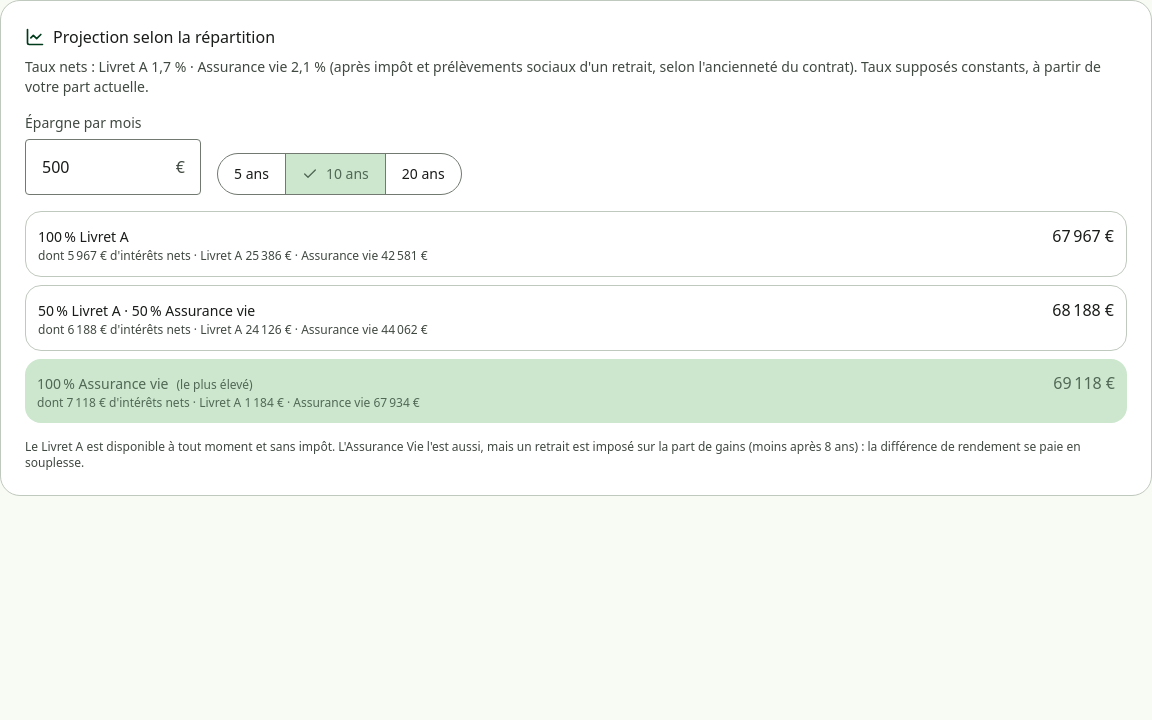
Test: SplitProjectionCard › trois répartitions ; la durée se choisit par un bouton segmenté
This screenshot has width=1152, height=720.
Check: the list named "Trois répartitions sur 10 ans" shows "100 %", box 38,227 -> 129,246
Check: the text "(le plus élevé)" is shown, box 176,376 -> 253,393
Click the button "20 ans" at (423, 174), box 385,154 -> 461,194
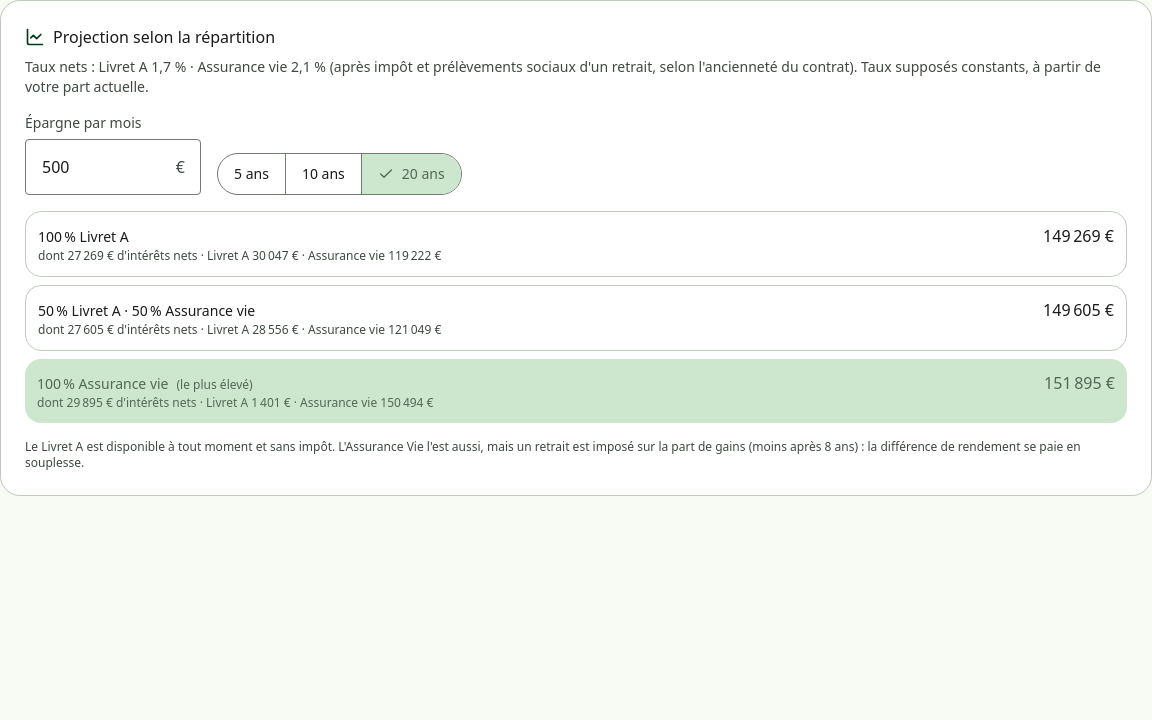
Check: the field labelled "Épargne par mois" holds "500", box 25,139 -> 201,195
Check: the list named "Trois répartitions sur 20 ans" is shown, box 25,211 -> 1127,423
